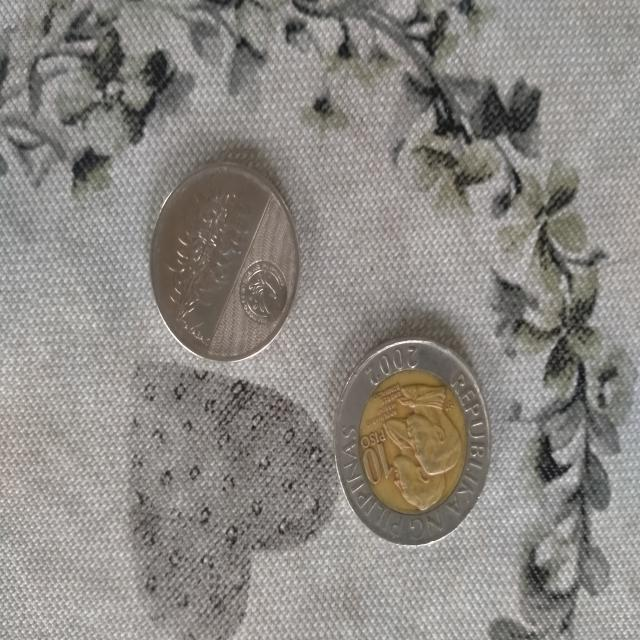10_Old_Front: (354, 410, 402, 496)
